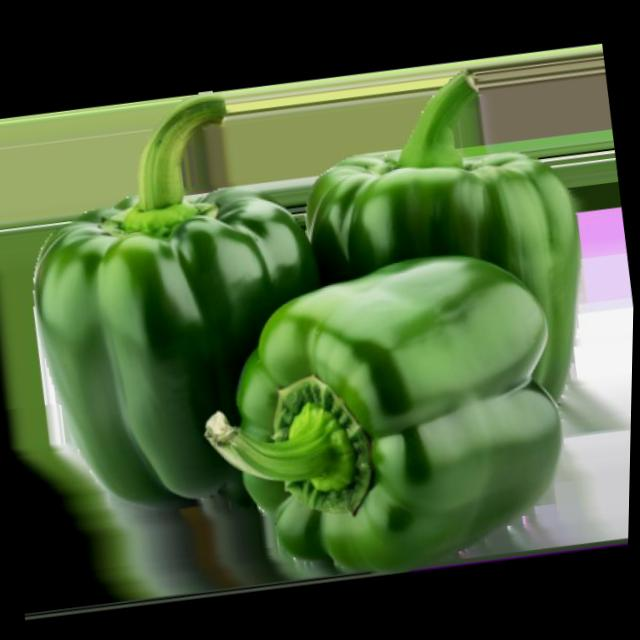Capsicum: (8, 86, 348, 520), (181, 236, 586, 594), (293, 56, 606, 431)
